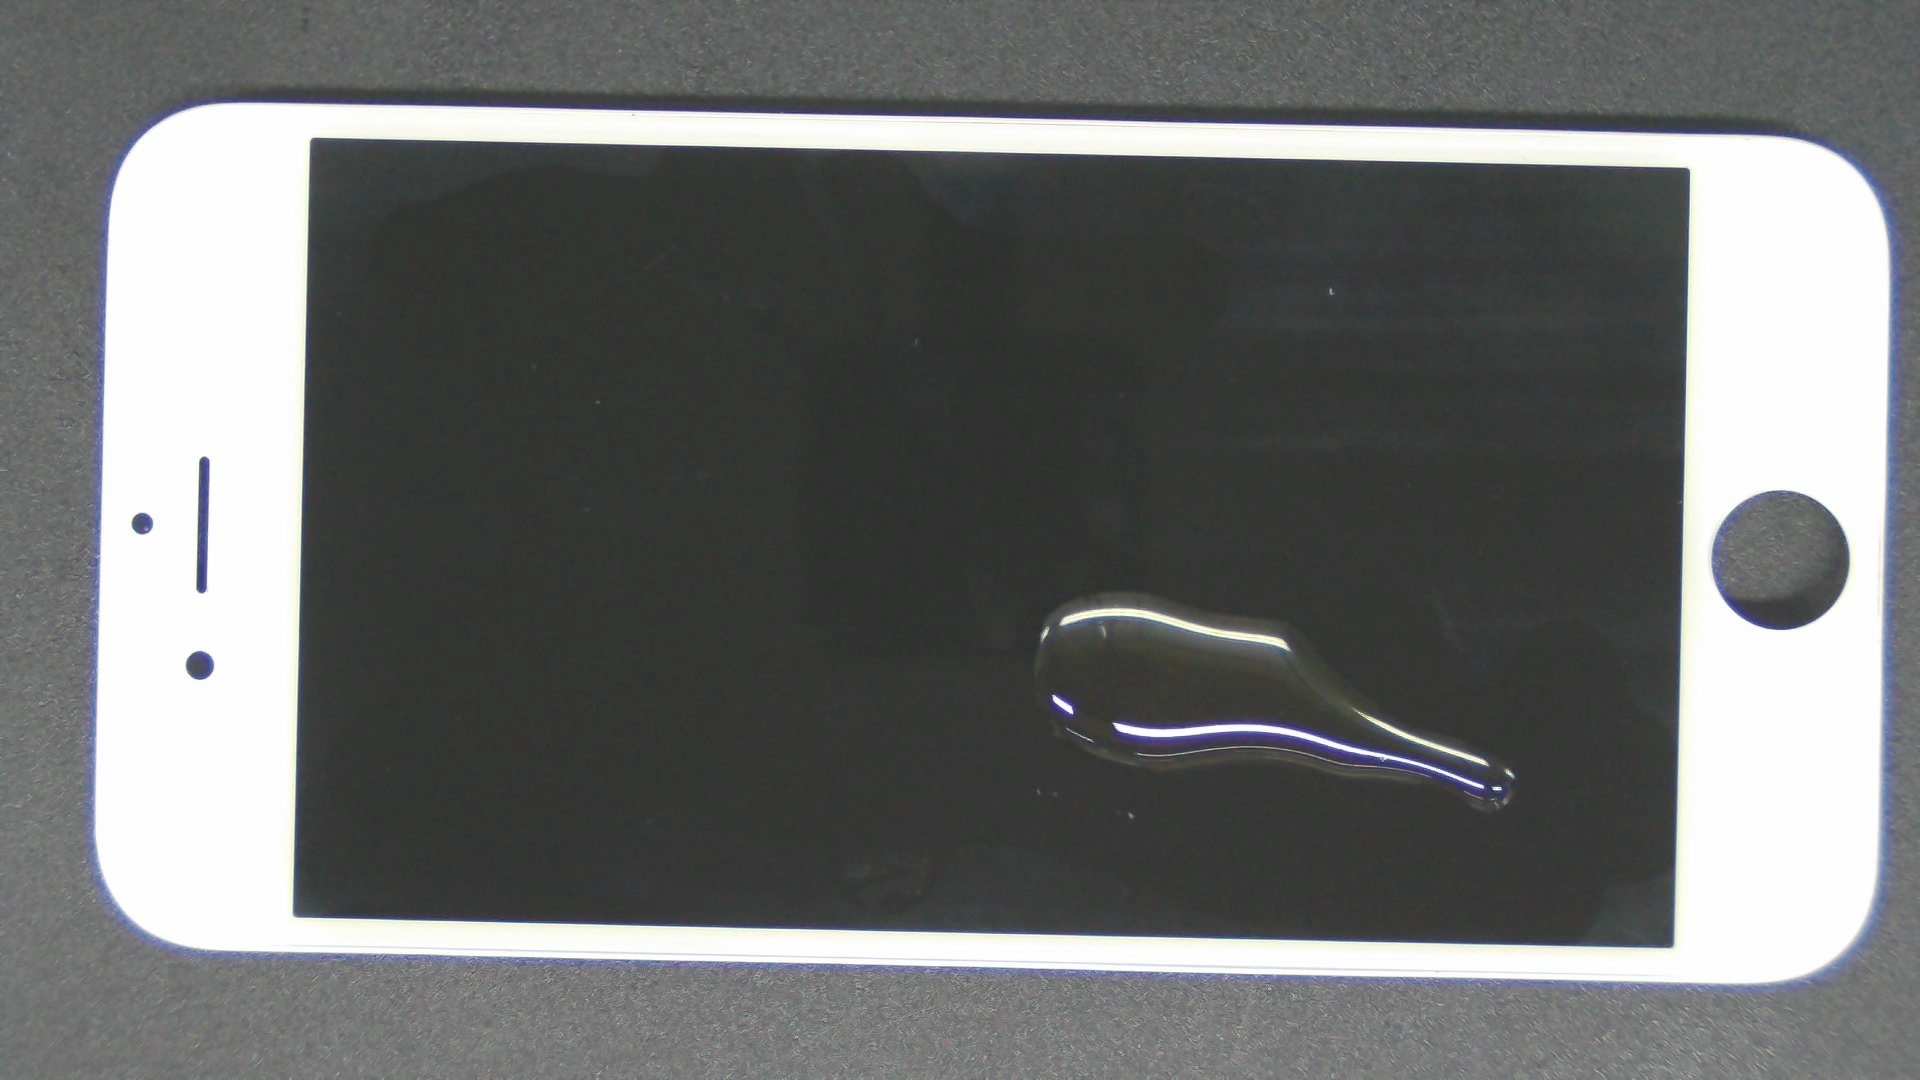oil: (555, 295, 1663, 887)
